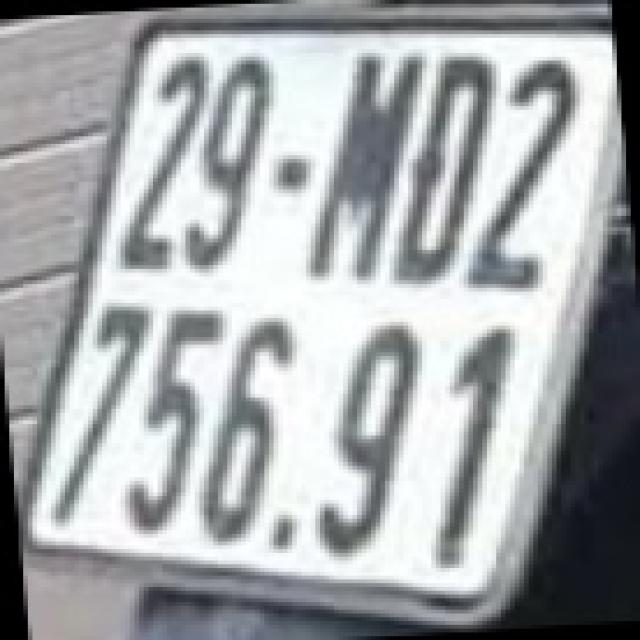1: (431, 326, 515, 568)
2: (478, 61, 570, 292), (121, 55, 204, 267)
5: (134, 314, 213, 534)
6: (209, 308, 292, 544)
7: (46, 314, 144, 526)
9: (316, 326, 418, 556), (188, 55, 276, 267)
D: (394, 53, 496, 284)
M: (302, 53, 418, 280)
